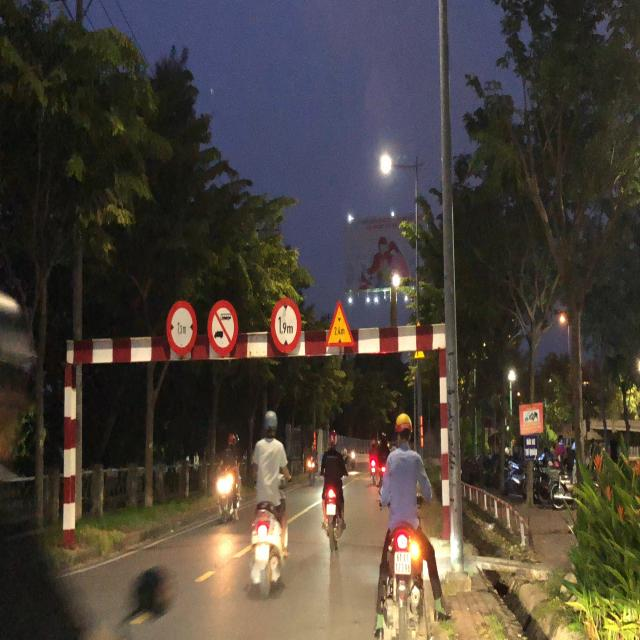Bien bao cam xe oto khach va xe oto tai: (206, 296, 242, 357)
Bien bao chieu cao tinh khong thuc te: (323, 296, 359, 352)
Bien bao han che chieu cao: (267, 296, 305, 354)
